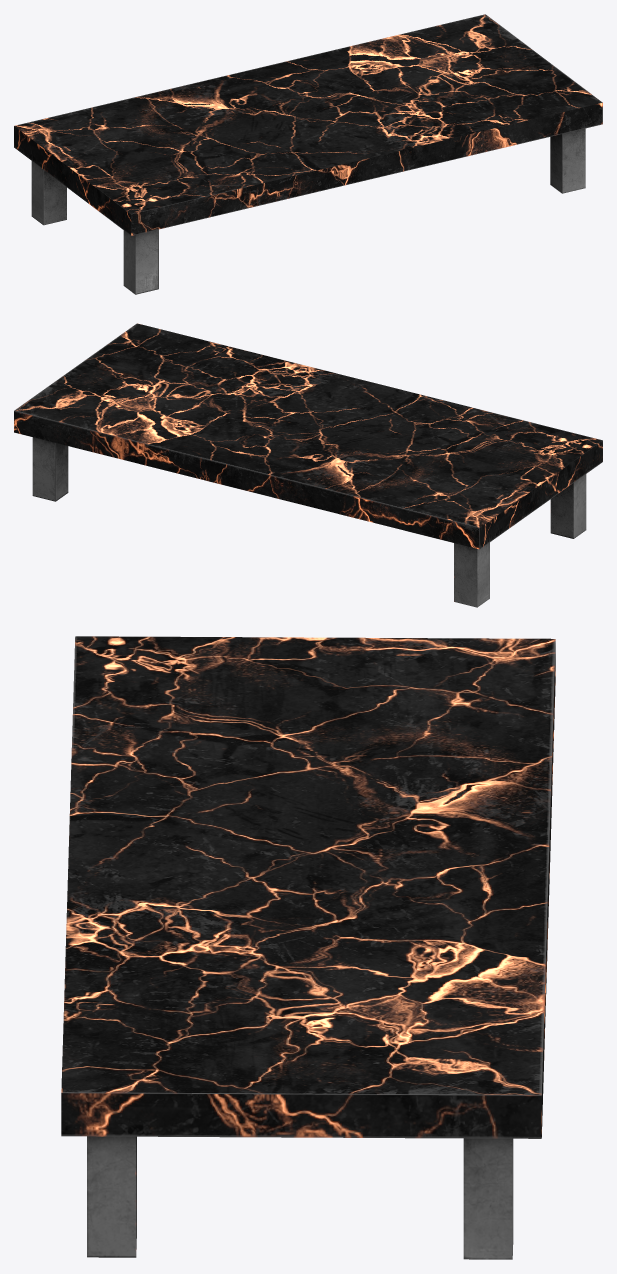
File: lava_table.glb
3 views of the same model, one above another, from view 1: azimuth 30°, elevation 25°; view 2: azimuth 150°, elevation 25°; view 3: azimuth 270°, elevation 25° (orthographic). The views are drawn at different scales.
Visible parts, largest first — view 1: pCube7; view 2: pCube7; view 3: pCube7.
Boxes of the visible parts, x1,y1,x2,y2 form: pCube7: (14,14,602,294); pCube7: (14,323,602,607); pCube7: (61,636,555,1259).
Bounding box in the file's own units: 3 × 0.5329 × 1.36.
1 material, 1 textured.
